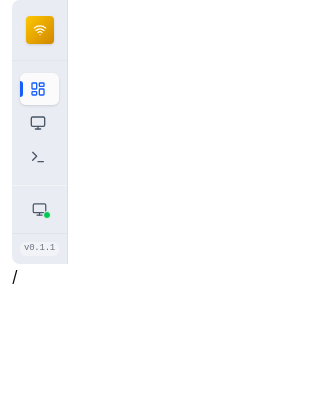
Test: Sidebar device actions › opens the device action menu from collapsed sidebar device items
This screenshot has width=332, height=401.
Right-click the button titled "Agent PC (在线)" at (40, 210), box x1=16 y1=194 x2=63 y2=225
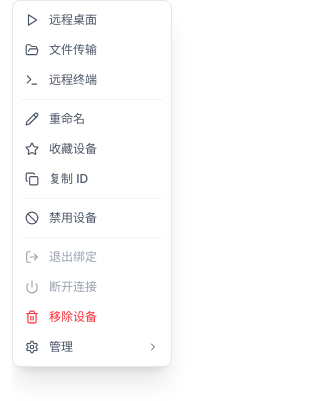
Now the button "收藏设备" is enabled, box x1=13 y1=134 x2=171 y2=164
Now the button "禁用设备" is enabled, box x1=13 y1=203 x2=171 y2=233
